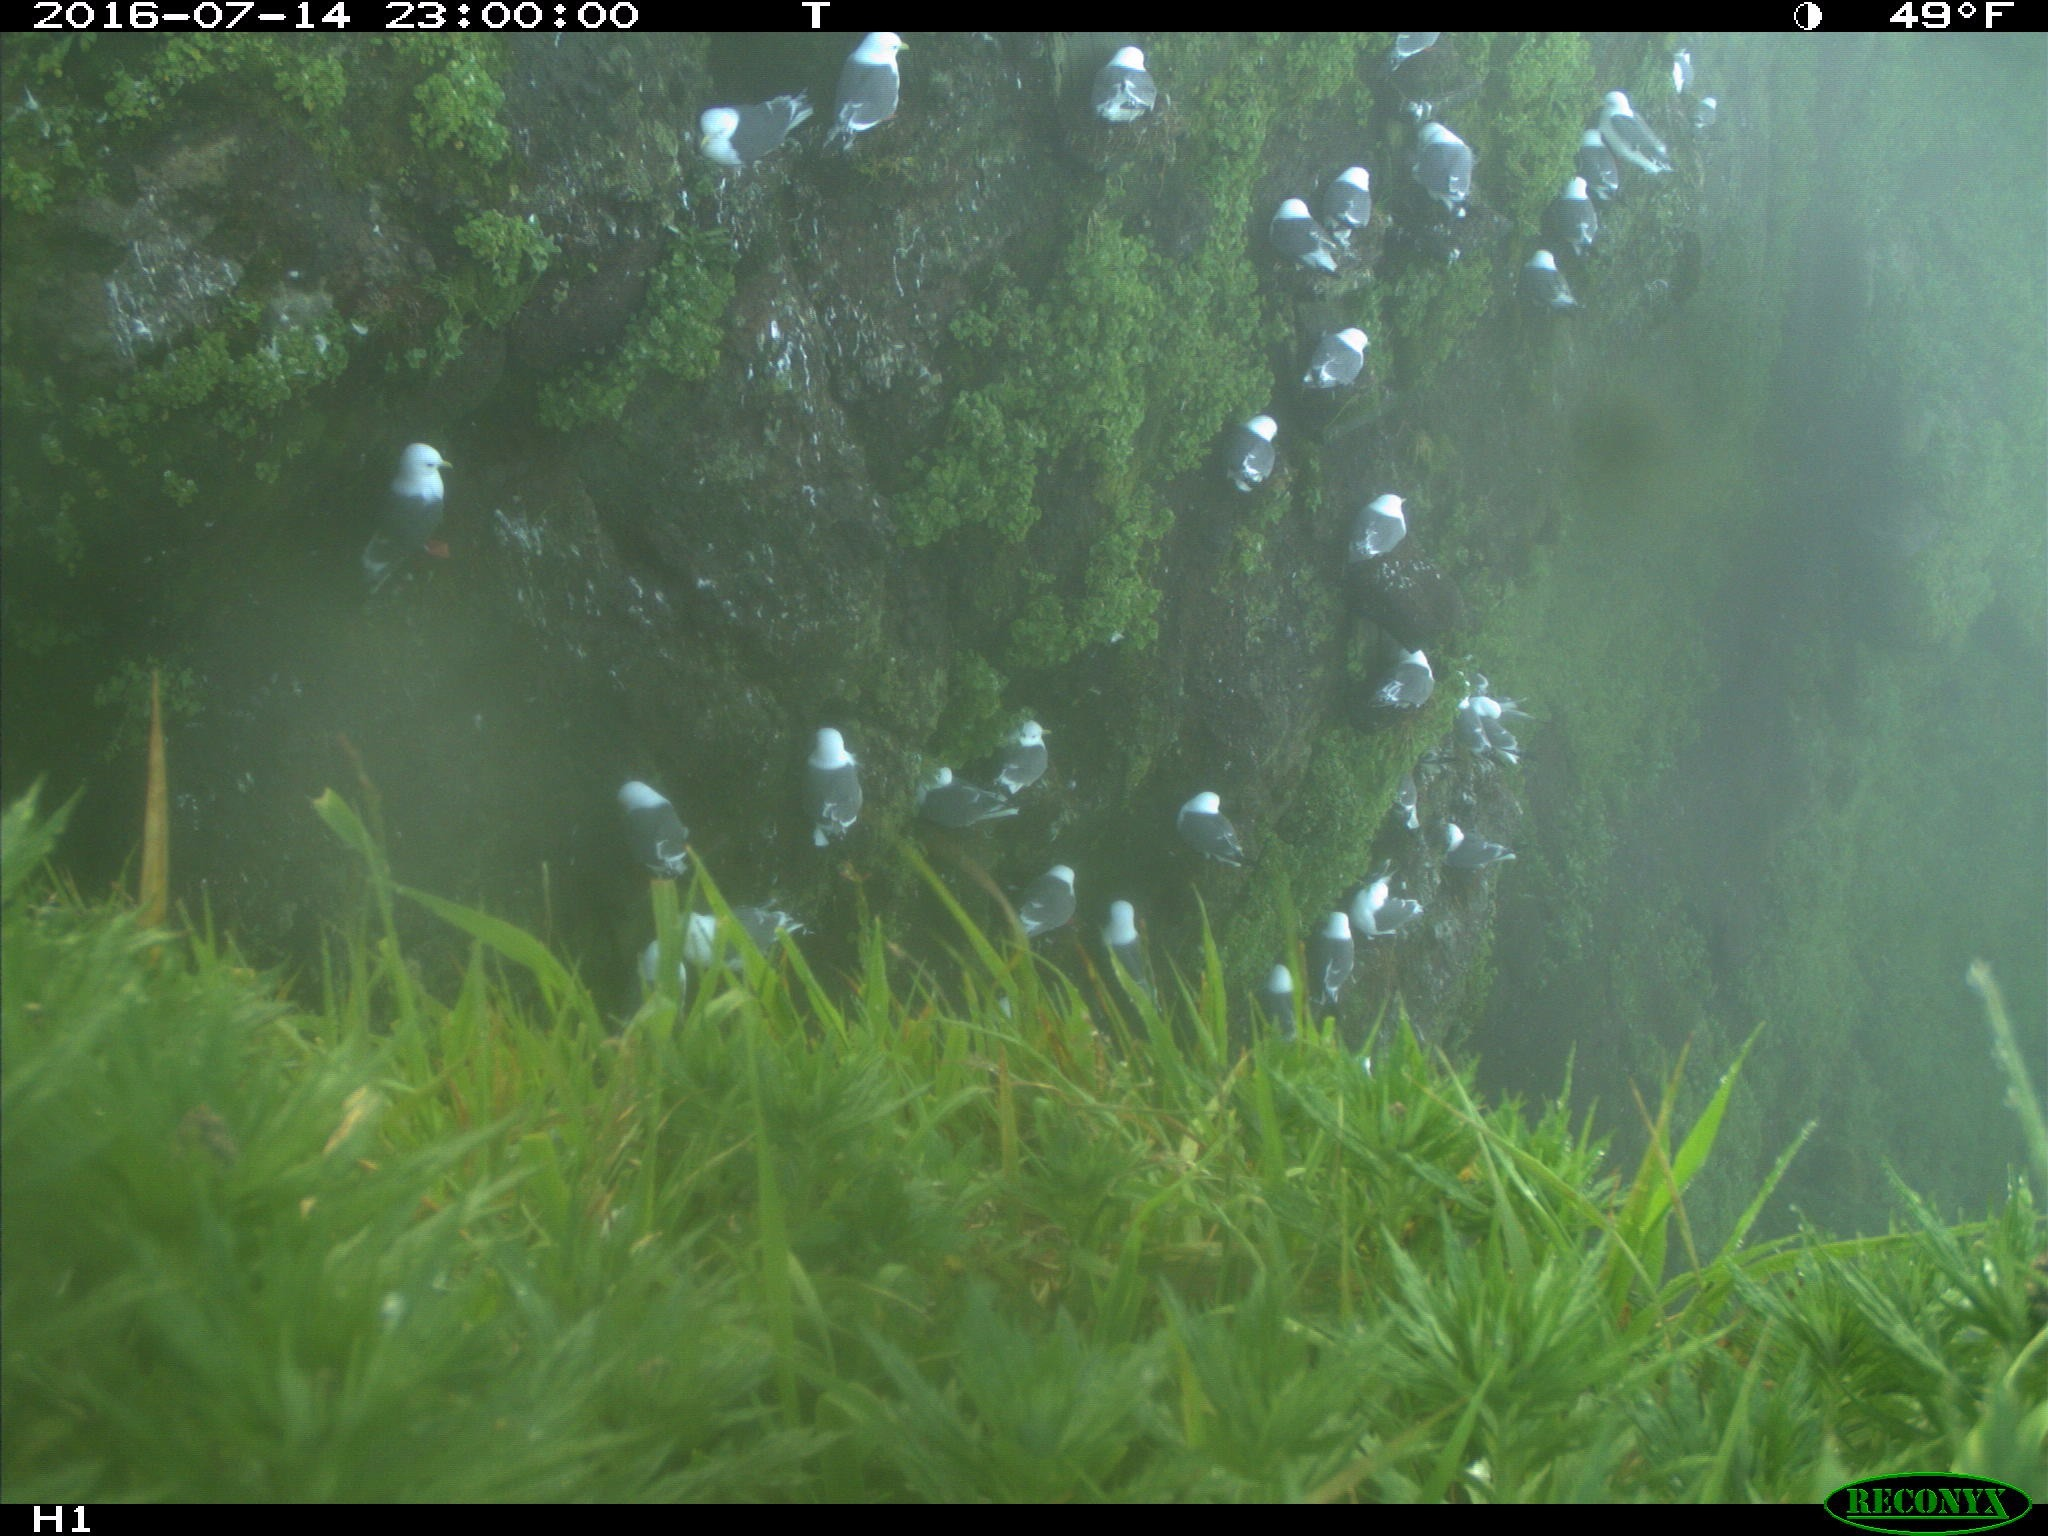Kittiwake: (339, 415, 479, 634), (780, 691, 895, 866), (585, 766, 742, 891), (640, 892, 840, 984), (805, 27, 926, 174), (682, 79, 840, 177), (1392, 100, 1500, 229), (1158, 766, 1274, 886), (1271, 300, 1405, 403), (1587, 68, 1701, 179), (1630, 44, 1759, 136), (1064, 27, 1174, 132), (995, 842, 1090, 957), (611, 926, 724, 1021), (1329, 463, 1429, 570), (1316, 139, 1405, 257), (1213, 395, 1300, 511), (921, 755, 1043, 837), (1546, 161, 1637, 271), (1434, 795, 1543, 884), (1308, 892, 1371, 1041), (1501, 229, 1587, 337), (1355, 626, 1447, 724), (1338, 27, 1501, 79), (1100, 879, 1164, 1008), (1266, 182, 1343, 287), (985, 707, 1058, 812), (1253, 941, 1314, 1055), (1345, 879, 1435, 957), (1572, 115, 1638, 203), (1472, 692, 1538, 778), (1379, 753, 1435, 849), (1447, 687, 1500, 771), (1463, 674, 1558, 721)
